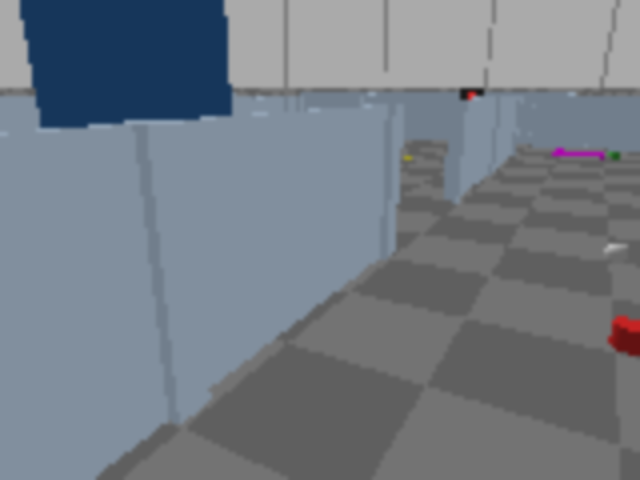goal_zone: (553, 150, 605, 158)
person: (0, 0, 220, 298)
puck: (599, 239, 636, 267), (611, 318, 638, 353)
